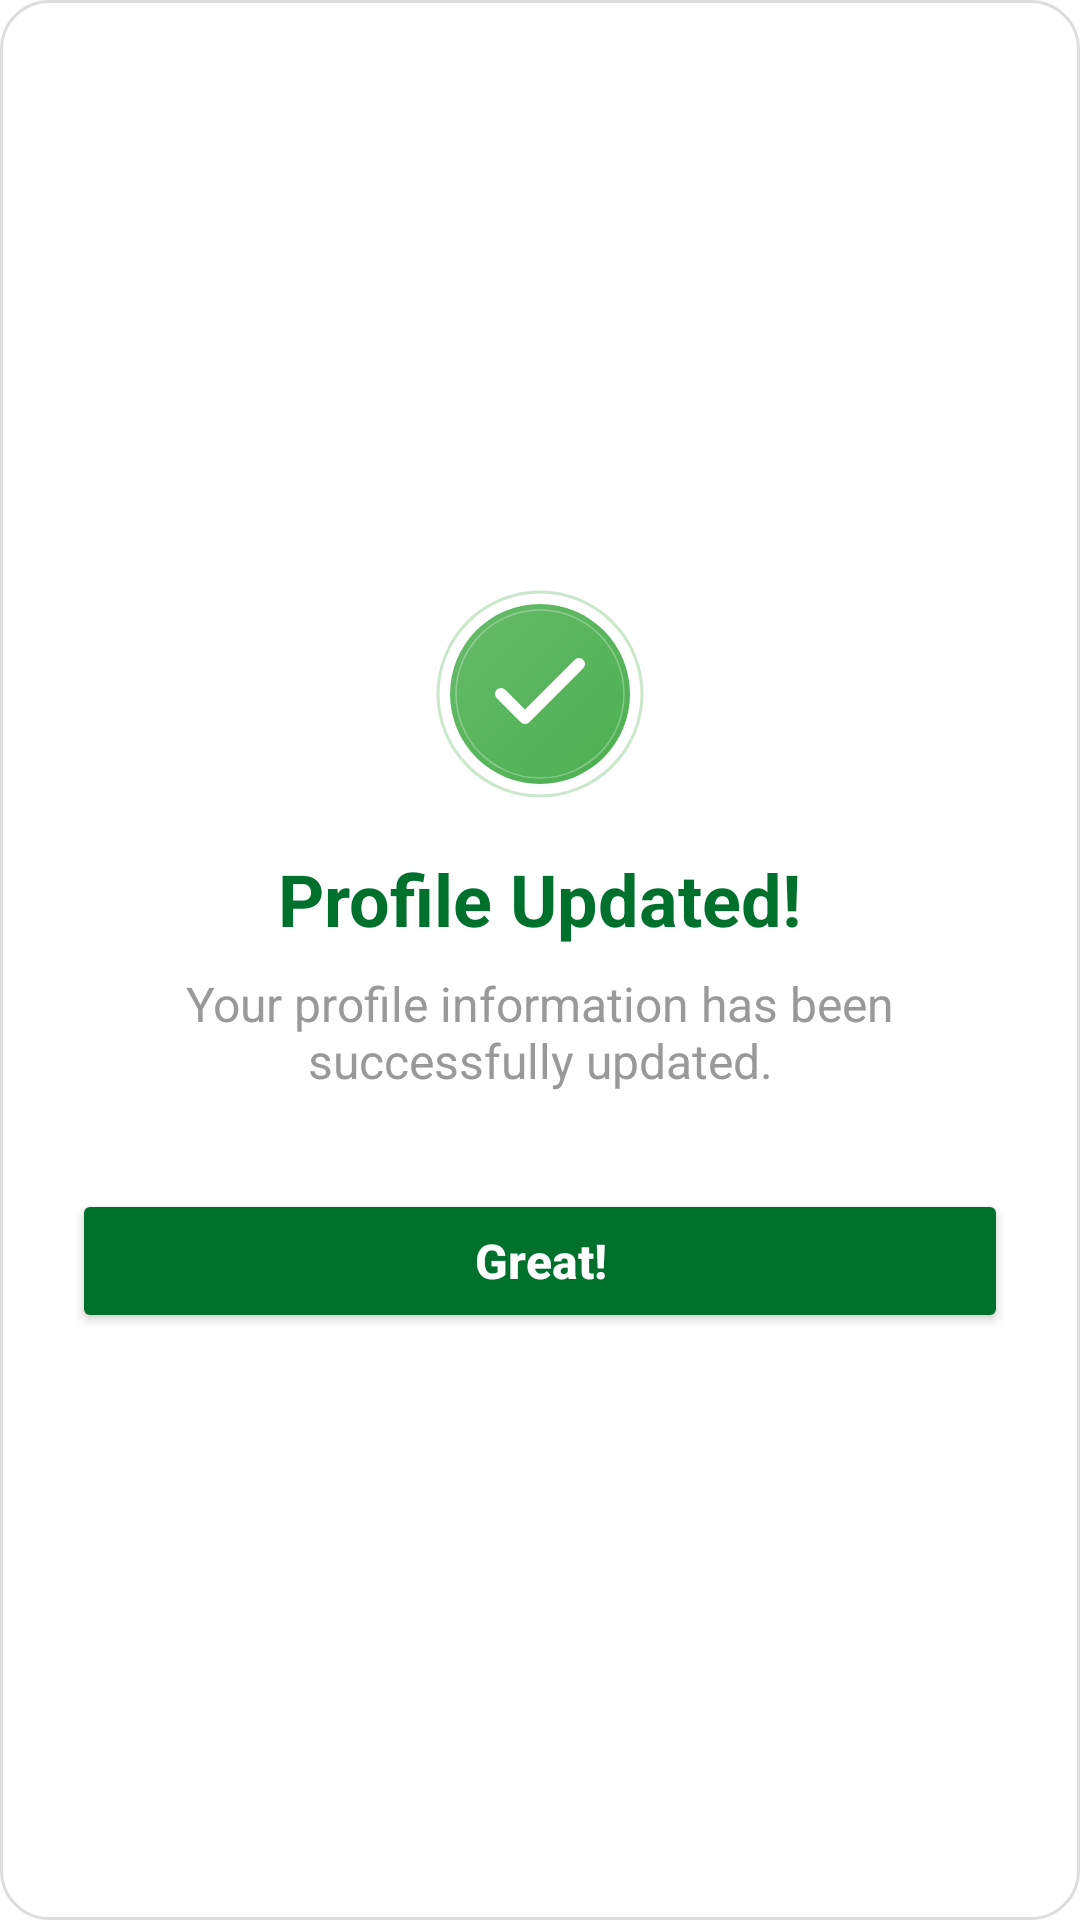

Where icons sit on this 1080x1920 app screen, as (x1, y1, x2, y2):
Success Icon: (436, 590, 644, 798)
